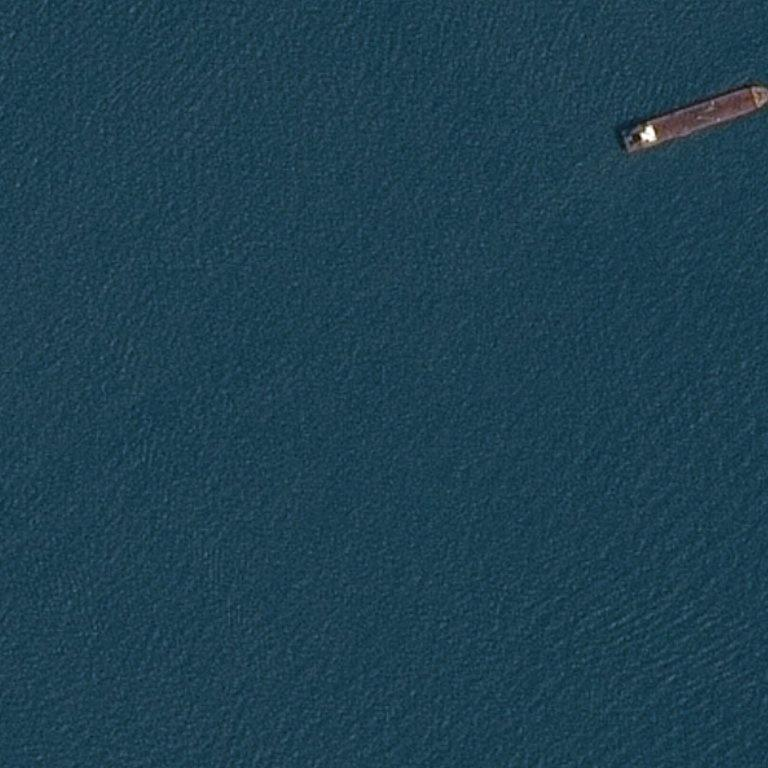ship: (619, 43, 768, 119)
